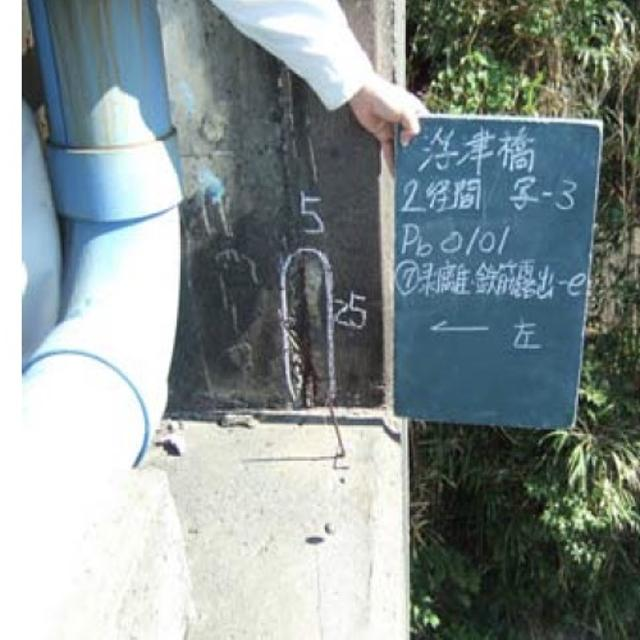spalling: (270, 248, 356, 412)
